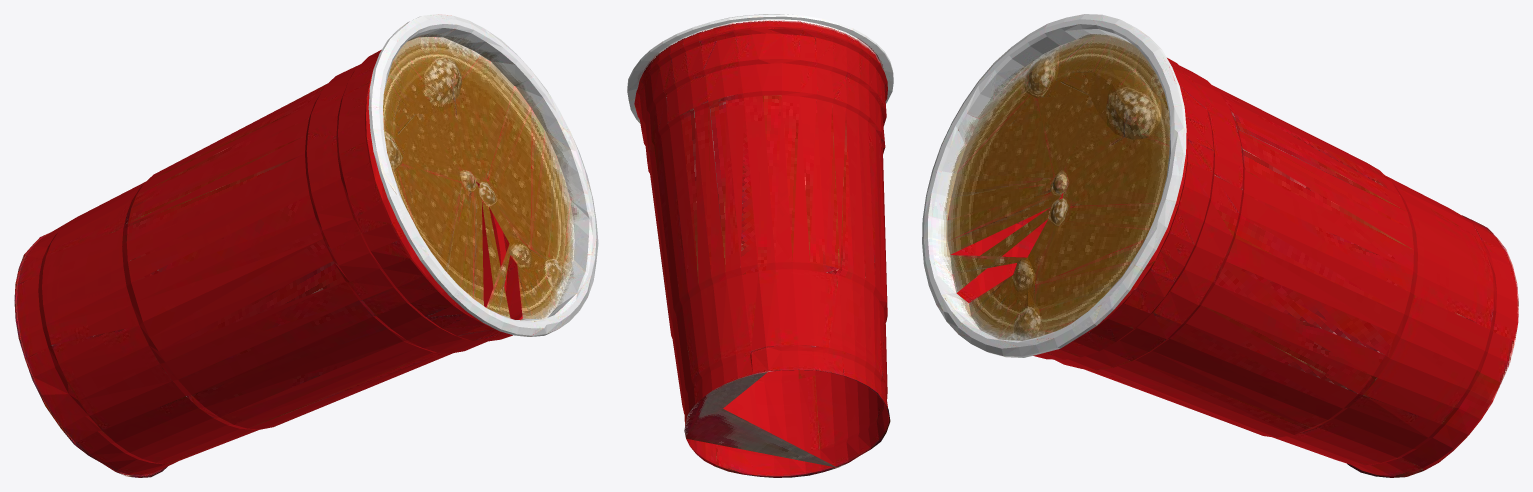
The model's file is ewm_cup.glb.
The picture shows the model from 3 angles, left to right: view 1: azimuth 30°, elevation 25°; view 2: azimuth 150°, elevation 25°; view 3: azimuth 270°, elevation 25°; orthographic projection. The views are drawn at different scales.
Visible parts, largest first — view 1: ewm_cup; view 2: ewm_cup; view 3: ewm_cup.
Part boxes in pixels (x1=…): ewm_cup: x1=14, y1=14, x2=598, y2=477; ewm_cup: x1=627, y1=14, x2=893, y2=477; ewm_cup: x1=922, y1=14, x2=1518, y2=477.
Bounding box in the file's own units: 0.1184 × 0.1245 × 0.133.
1 material, 1 textured.
